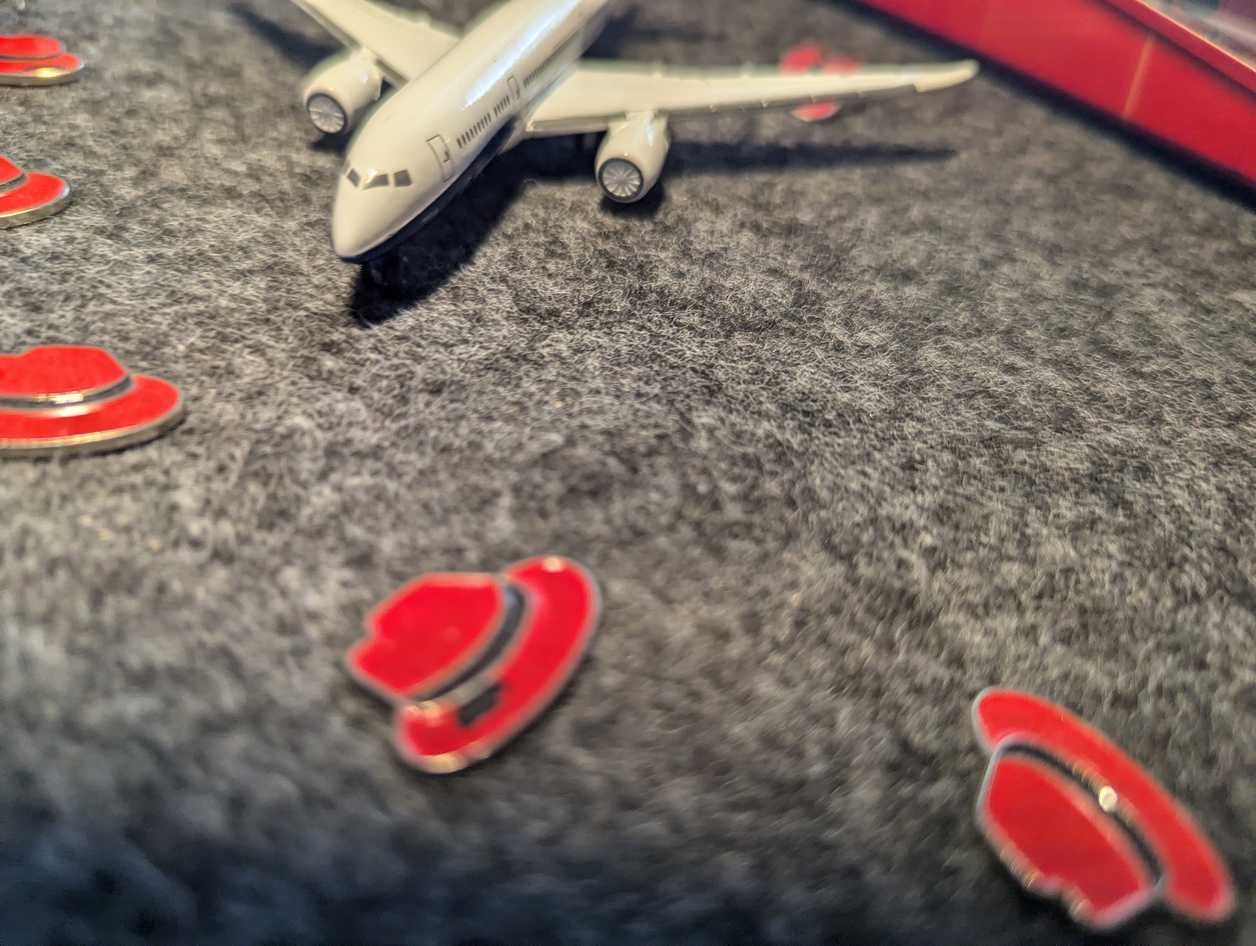Airplane: (180, 0, 995, 290)
Red-Hat: (953, 654, 1252, 946), (312, 525, 631, 798), (0, 332, 206, 476), (0, 29, 99, 93)
Scratch: (445, 671, 520, 734), (19, 59, 69, 90)
